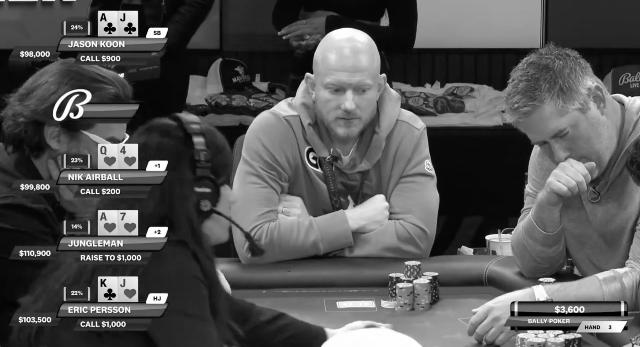4H: (119, 145, 139, 169)
7H: (119, 211, 139, 237)
AC: (99, 12, 118, 37)
AH: (98, 209, 118, 236)
JC: (118, 12, 138, 37)
JH: (120, 278, 138, 302)
KC: (98, 277, 119, 303)
QH: (98, 142, 118, 170)
